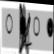correct: (47, 15, 54, 39)
